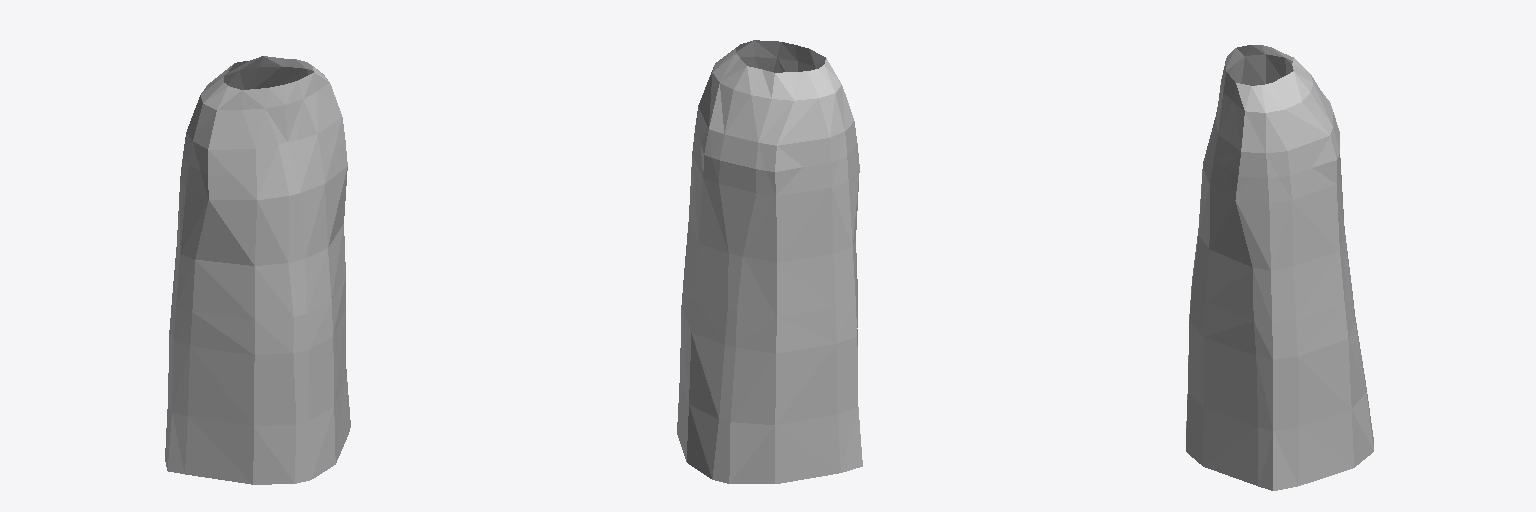
Rendered from long_skirt.obj.
3 views of the same model, side by side, from view 1: azimuth 30°, elevation 25°; view 2: azimuth 150°, elevation 25°; view 3: azimuth 270°, elevation 25° (orthographic).
Parts seen in each view (by area): view 1: g1_avatar_skirt; view 2: g1_avatar_skirt; view 3: g1_avatar_skirt.
Part boxes in pixels (x1,y1,x2,y2): g1_avatar_skirt: (165,56,350,484); g1_avatar_skirt: (677,40,862,483); g1_avatar_skirt: (1186,45,1373,490).
Size of the model in its own units: 0.5632 by 1.12 by 0.5016.